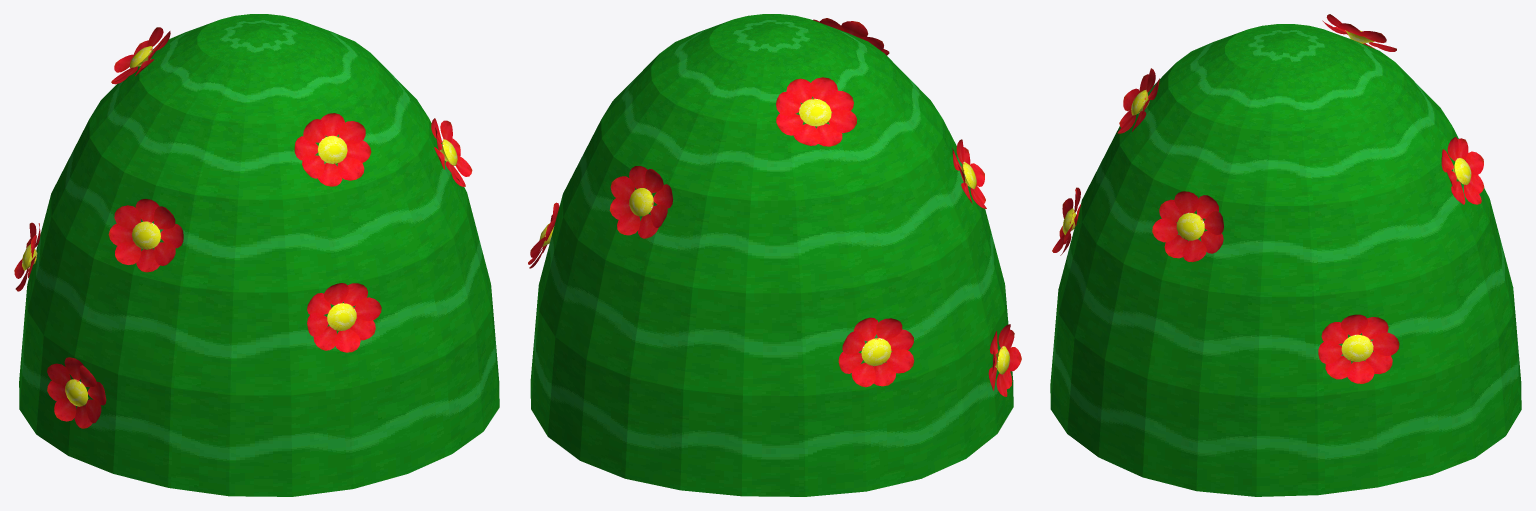
Rendered from ArbustoChico.obj.
3 views of the same model, side by side, from view 1: azimuth 30°, elevation 25°; view 2: azimuth 150°, elevation 25°; view 3: azimuth 270°, elevation 25° (orthographic). The views are drawn at different scales.
Parts seen in each view (by area): view 1: polySurface145; view 2: polySurface145; view 3: polySurface145.
Boxes of the visible parts, box(x1,y1,x2,y2) form: polySurface145: box(14, 14, 499, 496); polySurface145: box(528, 14, 1021, 496); polySurface145: box(1050, 14, 1521, 496).
Bounding box in the file's own units: 1.46 × 1.19 × 1.42.
2 materials, 2 textured.
